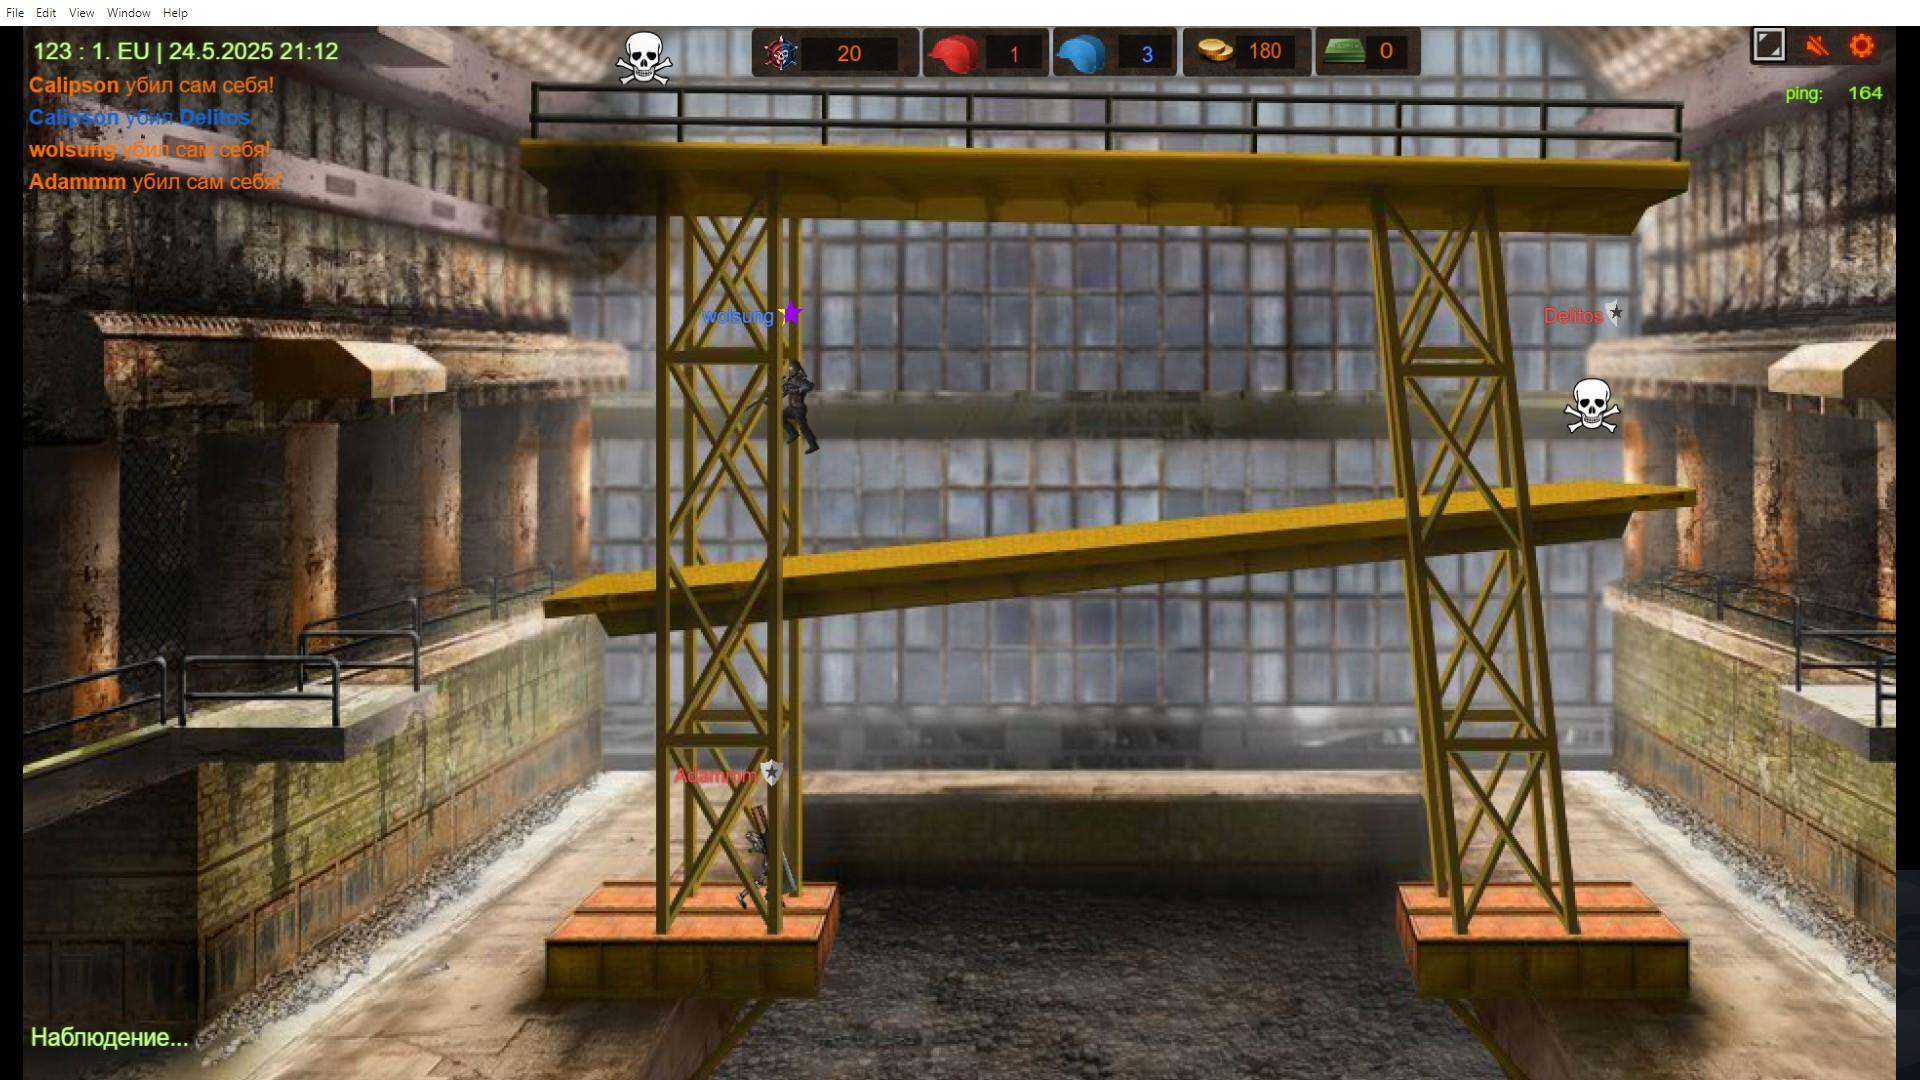enemy: (778, 360, 812, 454), (756, 822, 778, 906)
